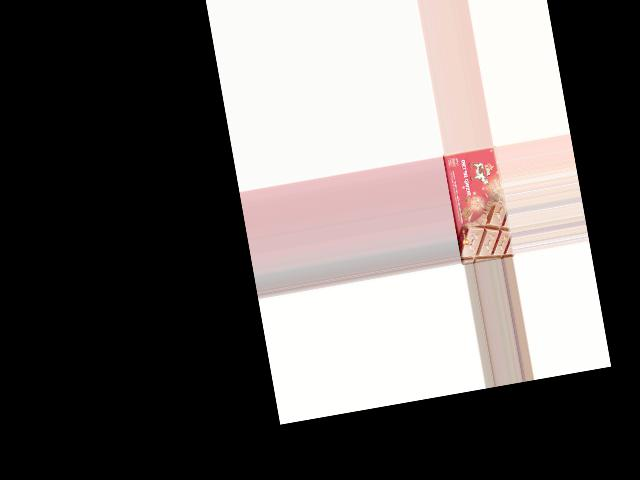chocolate: (442, 144, 514, 264)
